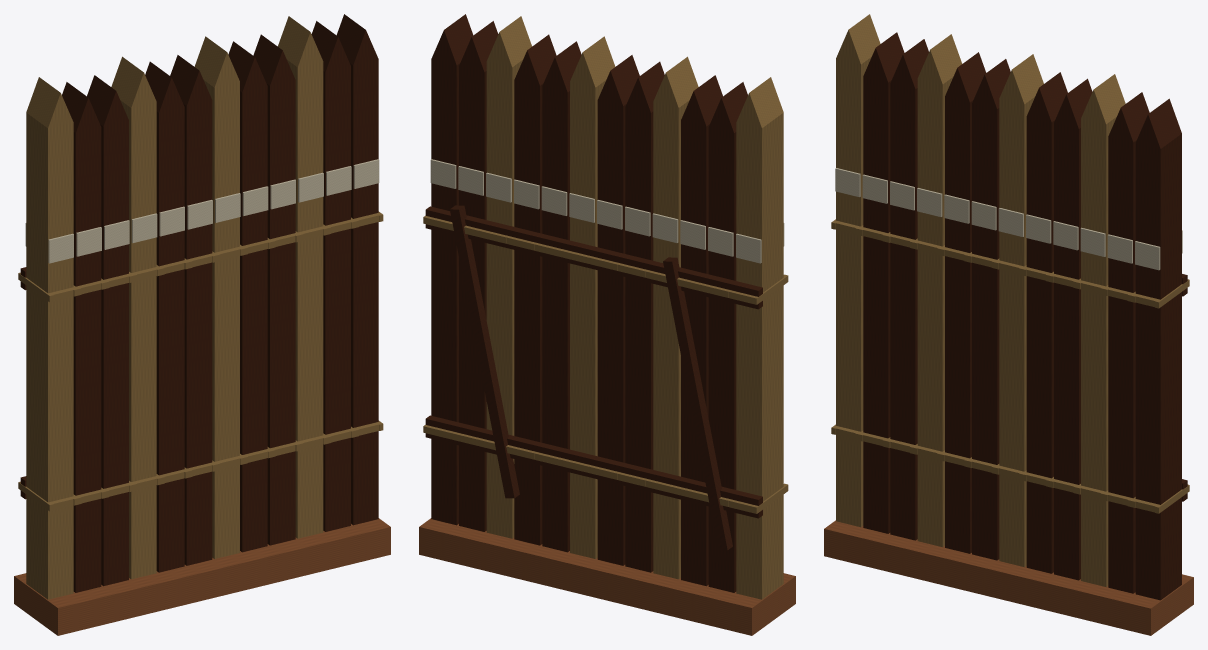
The model's file is Berber_Palisade_Age2_gapfill_3m.fbx.
The picture shows the model from 3 angles, left to right: view 1: azimuth 30°, elevation 25°; view 2: azimuth 150°, elevation 25°; view 3: azimuth 330°, elevation 25°; orthographic projection.
Parts seen in each view (by area): view 1: palm_split_post.035, palm_split_post.032, palm_split_post.038, palm_split_post.033, palm_split_post.029, earth_seat.005, palm_split_post.040, palm_split_post.034, palm_split_post.037, neutral_owner_band.005, front_lashing.005, lashing_side.005; view 2: palm_split_post.035, palm_split_post.038, palm_split_post.032, palm_split_post.029, palm_split_post.033, earth_seat.005, palm_split_post.037, palm_split_post.034, palm_split_post.040, continuous_rear_tie.005, back_diagonal_brace.005, neutral_owner_band.005 (+2 smaller); view 3: palm_split_post.038, palm_split_post.032, palm_split_post.033, palm_split_post.035, earth_seat.005, palm_split_post.034, palm_split_post.029, palm_split_post.040, palm_split_post.037, neutral_owner_band.005, front_lashing.005, lashing_side.005.
Boxes of the visible parts, x1=… form: palm_split_post.035: x1=145, y1=34, x2=295, y2=572; palm_split_post.032: x1=62, y1=55, x2=212, y2=592; palm_split_post.038: x1=228, y1=14, x2=378, y2=552; palm_split_post.033: x1=87, y1=21, x2=350, y2=586; palm_split_post.029: x1=26, y1=77, x2=73, y2=599; earth_seat.005: x1=14, y1=518, x2=390, y2=635; palm_split_post.040: x1=278, y1=16, x2=323, y2=538; palm_split_post.034: x1=111, y1=56, x2=156, y2=579; palm_split_post.037: x1=194, y1=36, x2=239, y2=558; neutral_owner_band.005: x1=25, y1=159, x2=379, y2=263; front_lashing.005: x1=48, y1=212, x2=381, y2=509; lashing_side.005: x1=18, y1=211, x2=383, y2=511; palm_split_post.035: x1=514, y1=34, x2=664, y2=572; palm_split_post.038: x1=431, y1=14, x2=581, y2=552; palm_split_post.032: x1=597, y1=55, x2=747, y2=592; palm_split_post.029: x1=736, y1=77, x2=783, y2=599; palm_split_post.033: x1=459, y1=21, x2=722, y2=586; earth_seat.005: x1=419, y1=518, x2=795, y2=635; palm_split_post.037: x1=570, y1=36, x2=615, y2=558; palm_split_post.034: x1=653, y1=56, x2=698, y2=579; palm_split_post.040: x1=486, y1=16, x2=531, y2=538; continuous_rear_tie.005: x1=425, y1=206, x2=762, y2=518; back_diagonal_brace.005: x1=450, y1=205, x2=732, y2=550; neutral_owner_band.005: x1=430, y1=159, x2=784, y2=263; palm_split_post.038: x1=1026, y1=72, x2=1181, y2=600; palm_split_post.032: x1=863, y1=32, x2=1010, y2=560; palm_split_post.033: x1=890, y1=39, x2=1149, y2=593; palm_split_post.035: x1=945, y1=52, x2=1092, y2=580; earth_seat.005: x1=824, y1=520, x2=1193, y2=635; palm_split_post.034: x1=917, y1=34, x2=962, y2=547; palm_split_post.029: x1=836, y1=14, x2=880, y2=527; palm_split_post.040: x1=1081, y1=74, x2=1125, y2=586; palm_split_post.037: x1=999, y1=54, x2=1043, y2=567; neutral_owner_band.005: x1=835, y1=168, x2=1182, y2=270; front_lashing.005: x1=834, y1=221, x2=1157, y2=512; lashing_side.005: x1=831, y1=219, x2=1189, y2=513.
Size of the model in its own units: 301 by 458 by 68.29.
4 materials, 4 textured.
